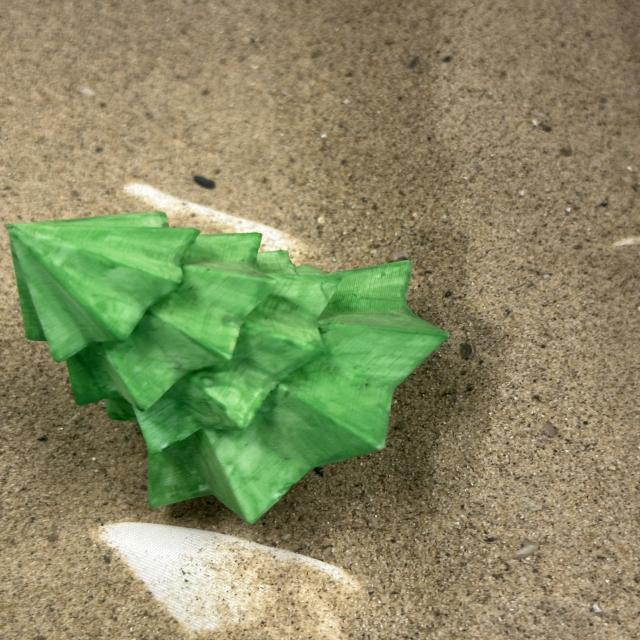tree: (6, 210, 450, 524)
